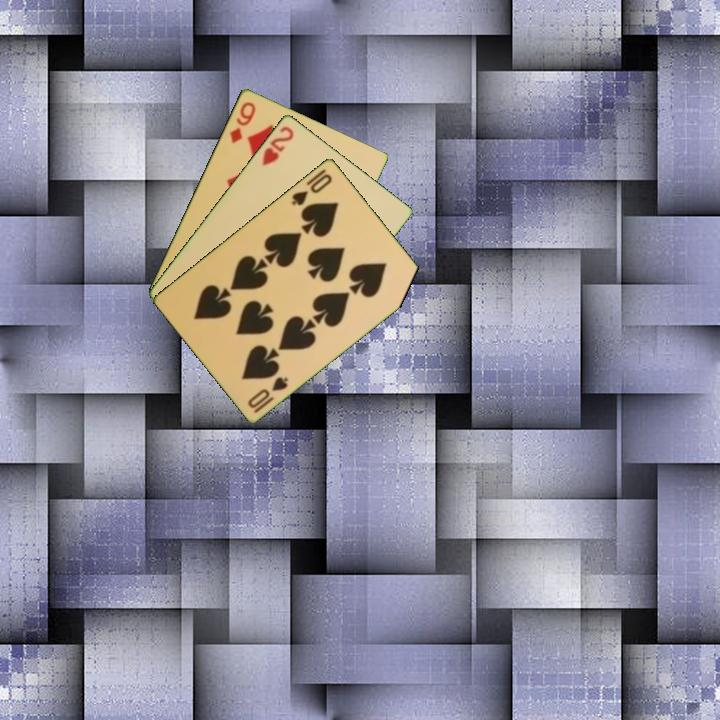10s: (244, 373, 291, 416), (288, 170, 335, 208)
2h: (258, 122, 297, 168)
9d: (226, 98, 259, 146)
